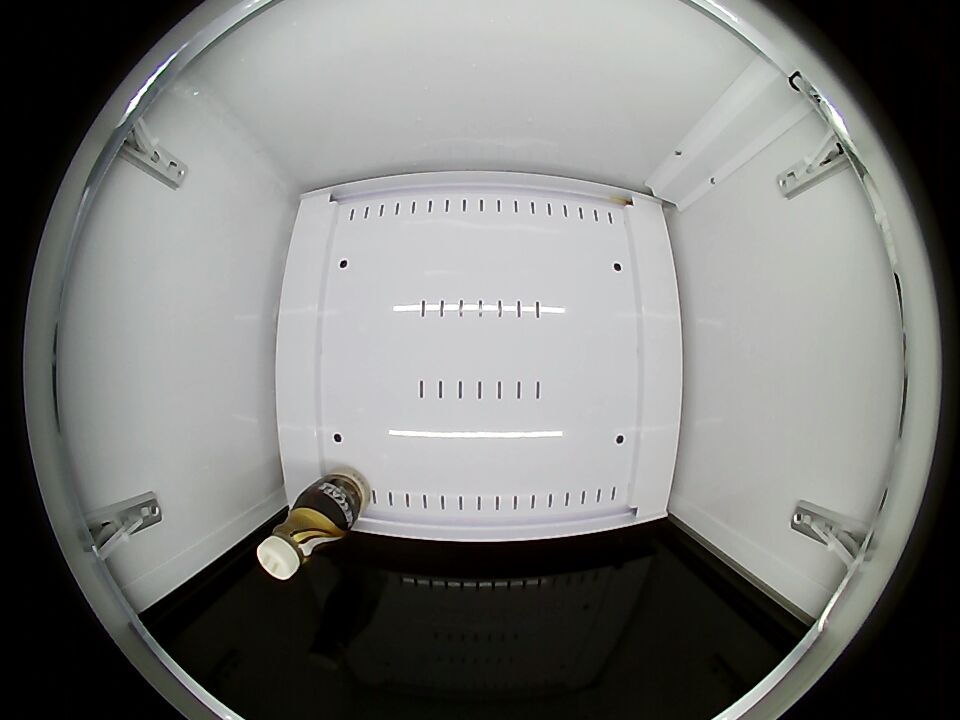kafei: (257, 494, 347, 580)
